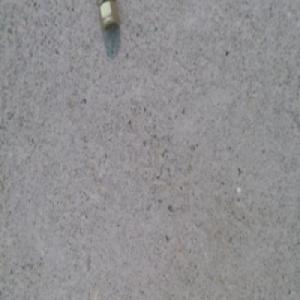BoltNutSet: (105, 0, 125, 37)
